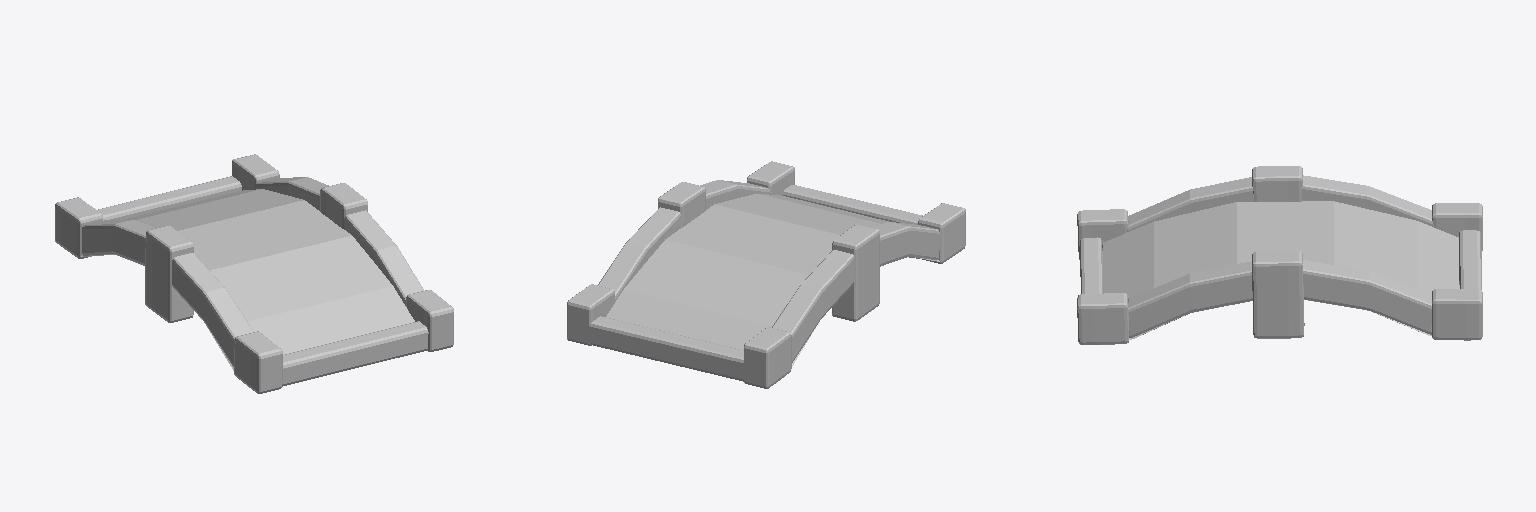
The model's file is bridge_stone.obj.
3 renders of one model, left to right at view 1: azimuth 30°, elevation 25°; view 2: azimuth 150°, elevation 25°; view 3: azimuth 270°, elevation 25°, orthographic.
Visible parts, largest first — view 1: bridge_stone; view 2: bridge_stone; view 3: bridge_stone.
Part boxes in pixels (bbox=[...]): bridge_stone: bbox=[55, 154, 453, 393]; bridge_stone: bbox=[567, 161, 965, 388]; bridge_stone: bbox=[1077, 166, 1482, 344].
Size of the model in its own units: 8.33 by 3.34 by 14.48.